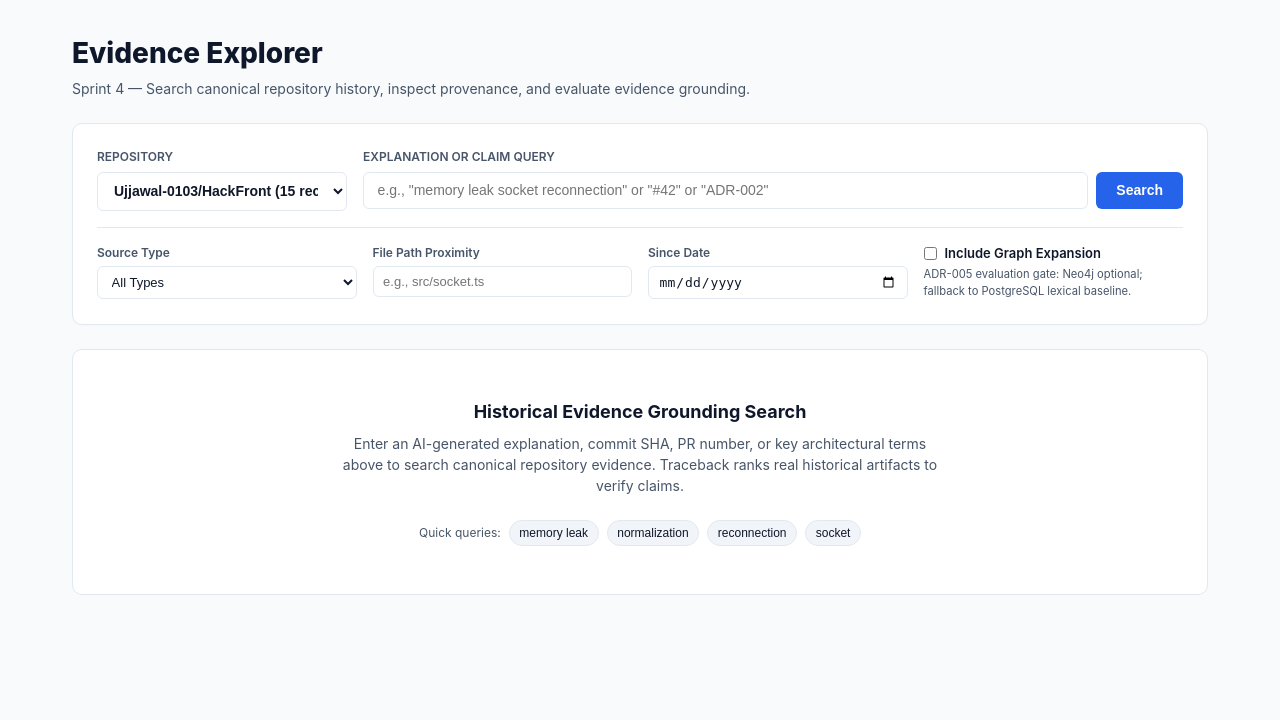
Scenario: EvidencePage (Sprint 4) › renders honest insufficient evidence state when no results match
Replace the text in the field with placeholder "memory leak socket reconnection" with "fabricated non-existent term" at (726, 190), box [363,172,1088,209]
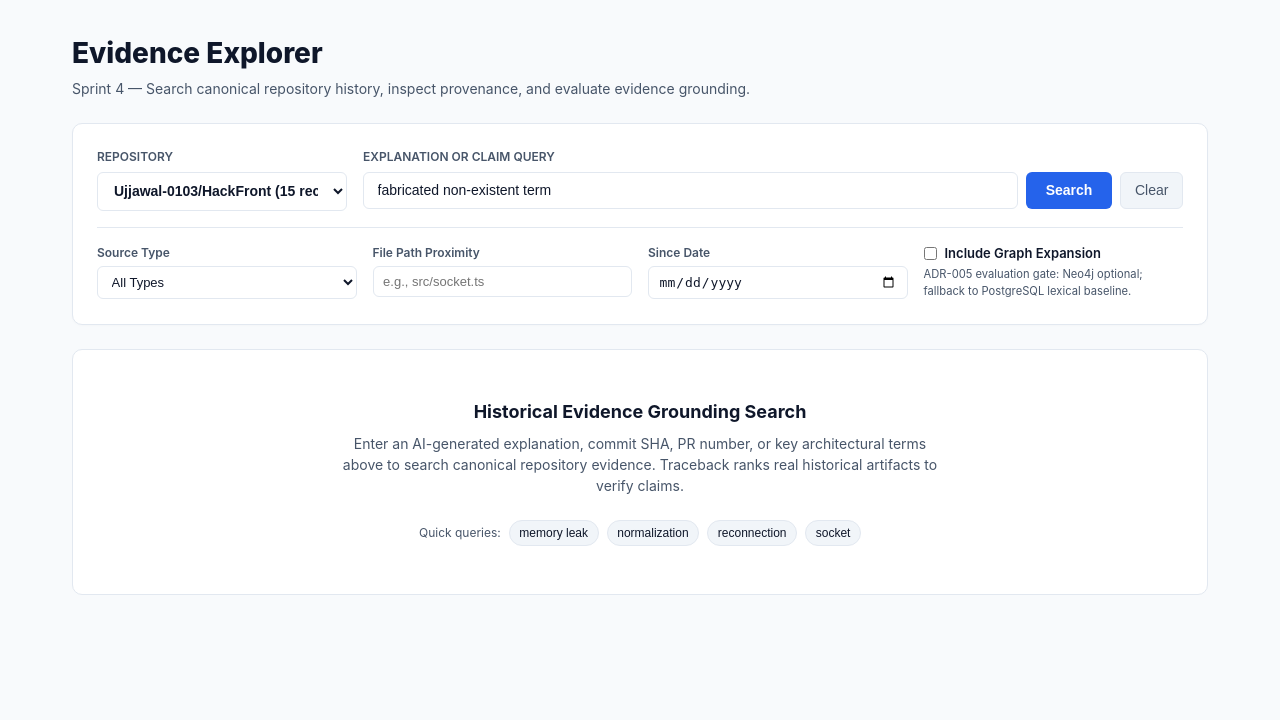
Click the button "Search" at (1069, 190), box [1026,172,1112,209]
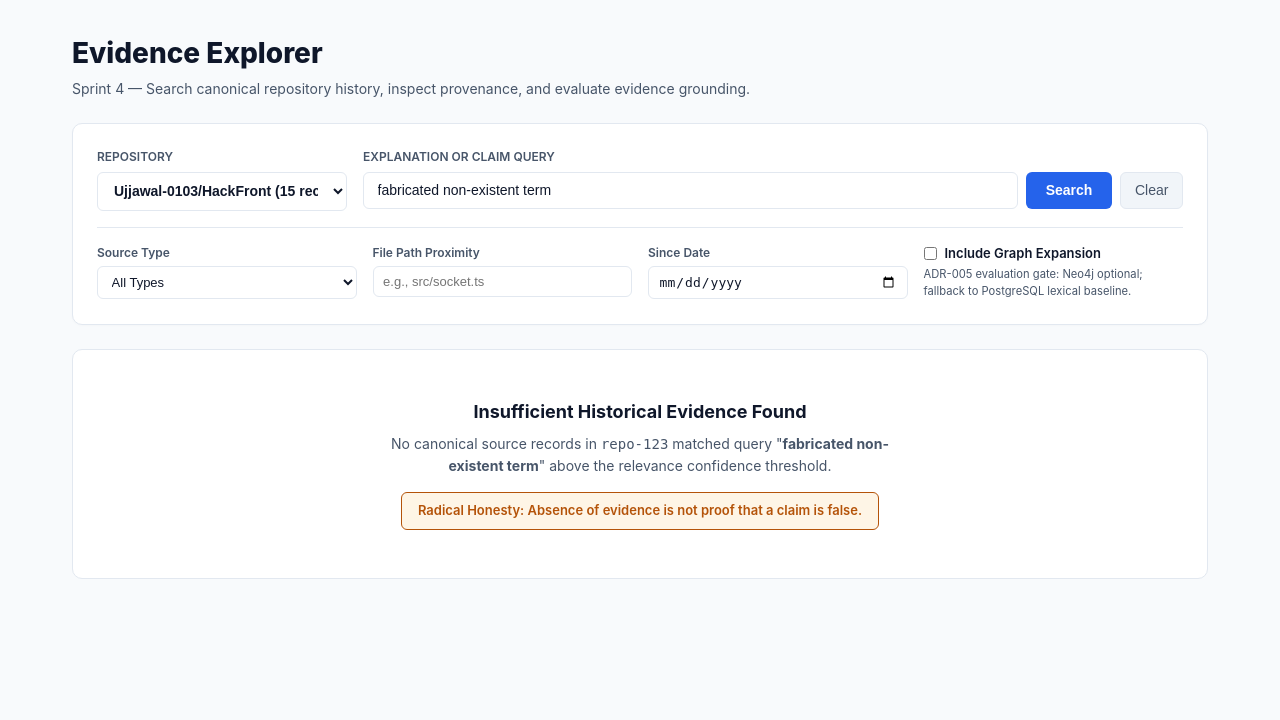
Check: the text "Insufficient Historical Evidence Found" is shown, box [473,401,807,422]
Check: the text "Absence of evidence is not proof that a claim is false" is shown, box [418,502,862,518]
